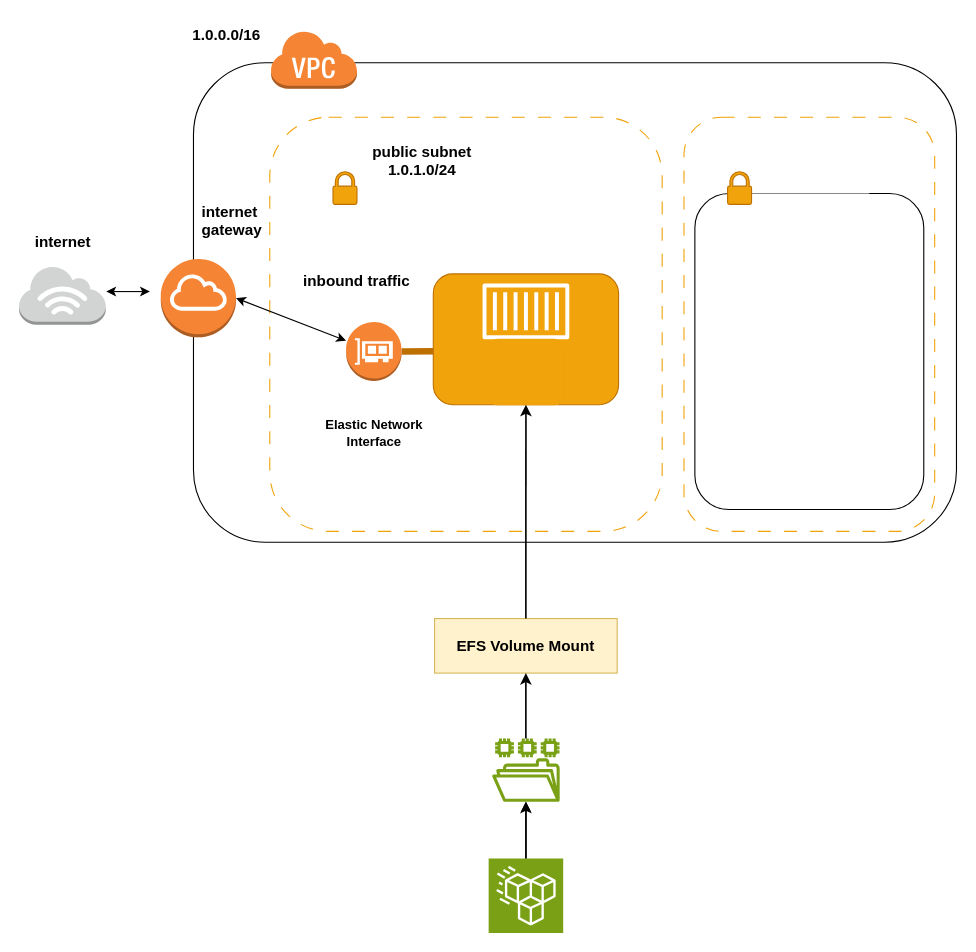
Some shapes in this 976 by 952 pixel diagram are drawn without their labels. Here are the shapes that lost their labels. From the top down, the box of each, then its label:
(738, 128, 869, 193): private subnet 1.0.2.0/24
(487, 338, 564, 405): Fargate Task
